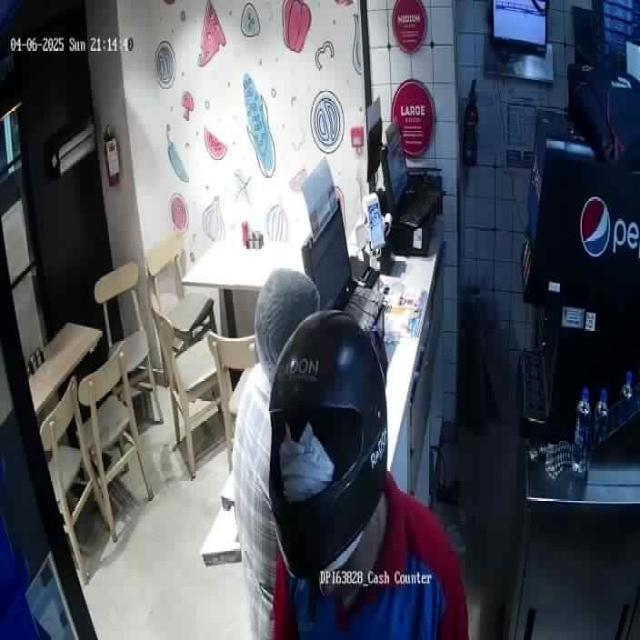helmet: (265, 308, 388, 581)
